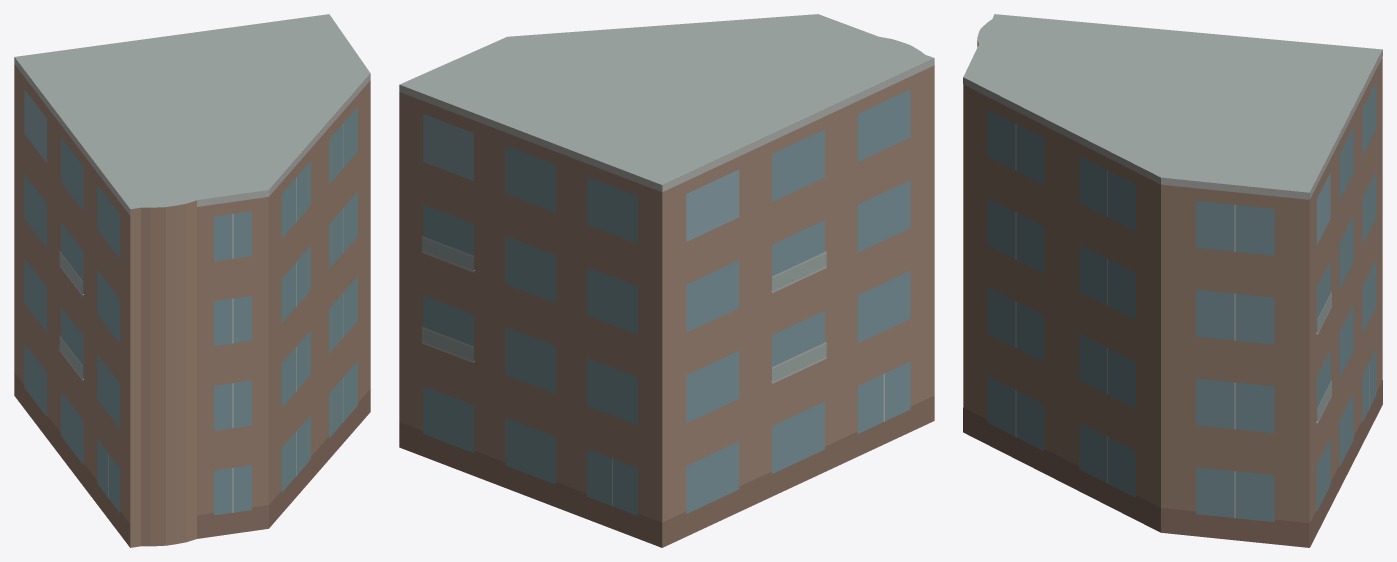
Rendered from survey-upis-32700948.glb.
3 renders of one model, left to right at view 1: azimuth 30°, elevation 25°; view 2: azimuth 150°, elevation 25°; view 3: azimuth 270°, elevation 25°, orthographic. The views are drawn at different scales.
Parts seen in each view (by area): view 1: survey-upis-32700948.tmp; view 2: survey-upis-32700948.tmp; view 3: survey-upis-32700948.tmp.
Boxes of the visible parts, x1,y1,x2,y2 form: survey-upis-32700948.tmp: (14,14,370,547); survey-upis-32700948.tmp: (399,14,934,547); survey-upis-32700948.tmp: (963,14,1382,547).
Bounding box in the file's own units: 13.18 × 12.2 × 13.07.
